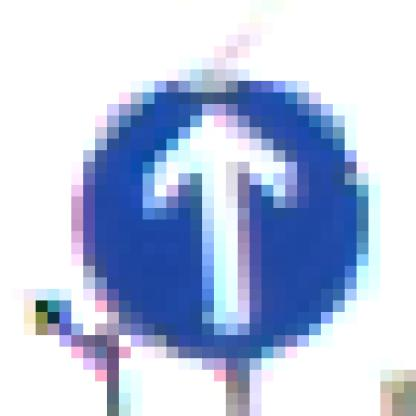AheadOnly: (72, 71, 358, 360)
